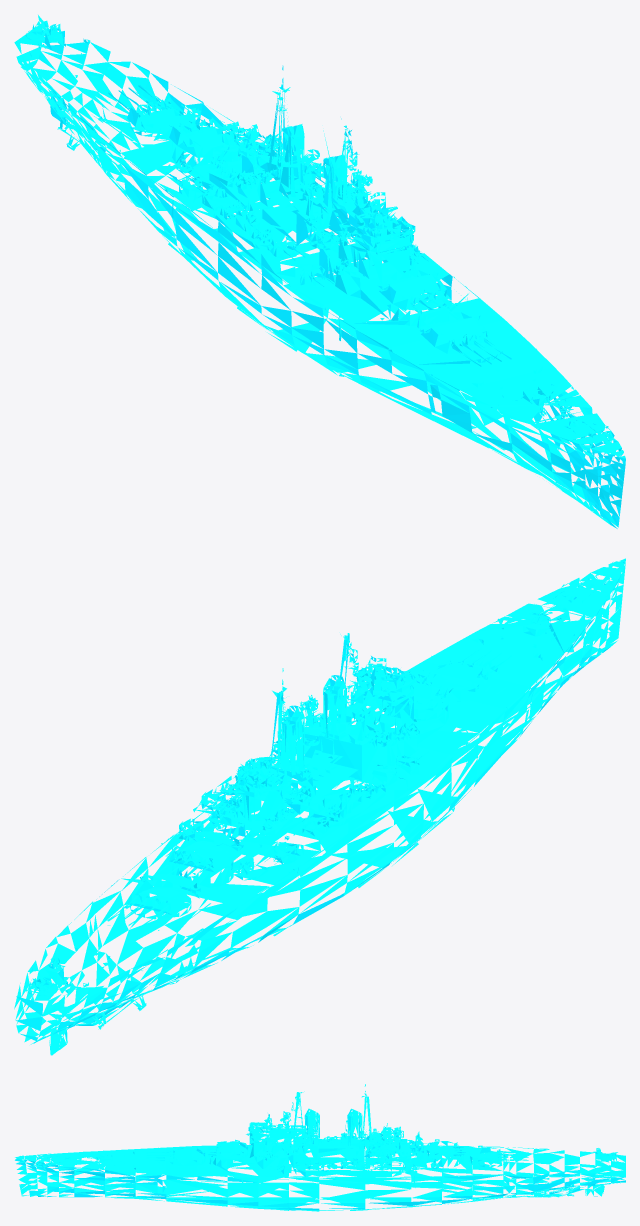
Rendered from Cumberland.glb.
3 renders of one model, top to bottom at view 1: azimuth 30°, elevation 25°; view 2: azimuth 150°, elevation 25°; view 3: azimuth 270°, elevation 25°, orthographic. The views are drawn at different scales.
Size of the model in its own units: 2.13 by 3.37 by 16.56.
